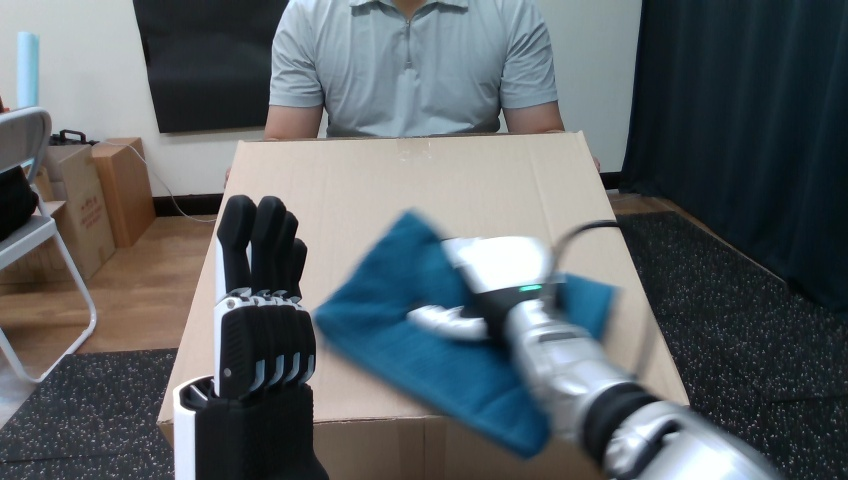left robot hand: (406, 220, 779, 479), (173, 195, 327, 479)
